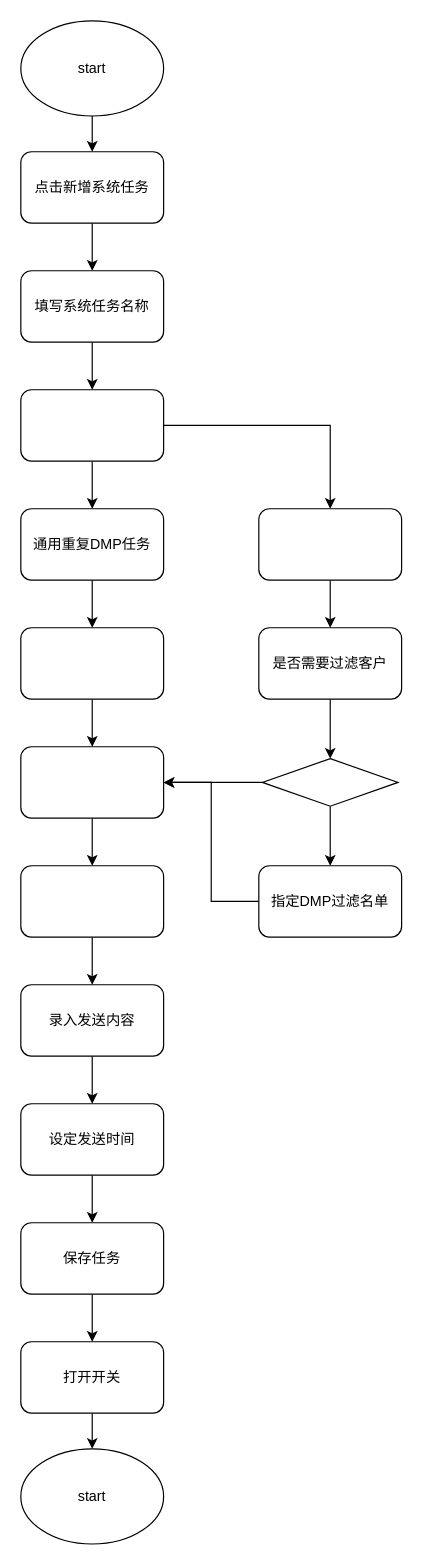
Some shapes in this 422 by 1565 pixel diagram are drawn without their labels. The shapes that lost their labels are listed below. From the top down, each one's centre as x and y in pixels, then its label:
the point at 92,425: 选择任务触达逻辑
the point at 330,544: 已录入的业务逻辑
the point at 92,663: 选择指定DMP结果
the point at 92,782: 选择发送人职能
the point at 92,901: 选择库容服务规则
